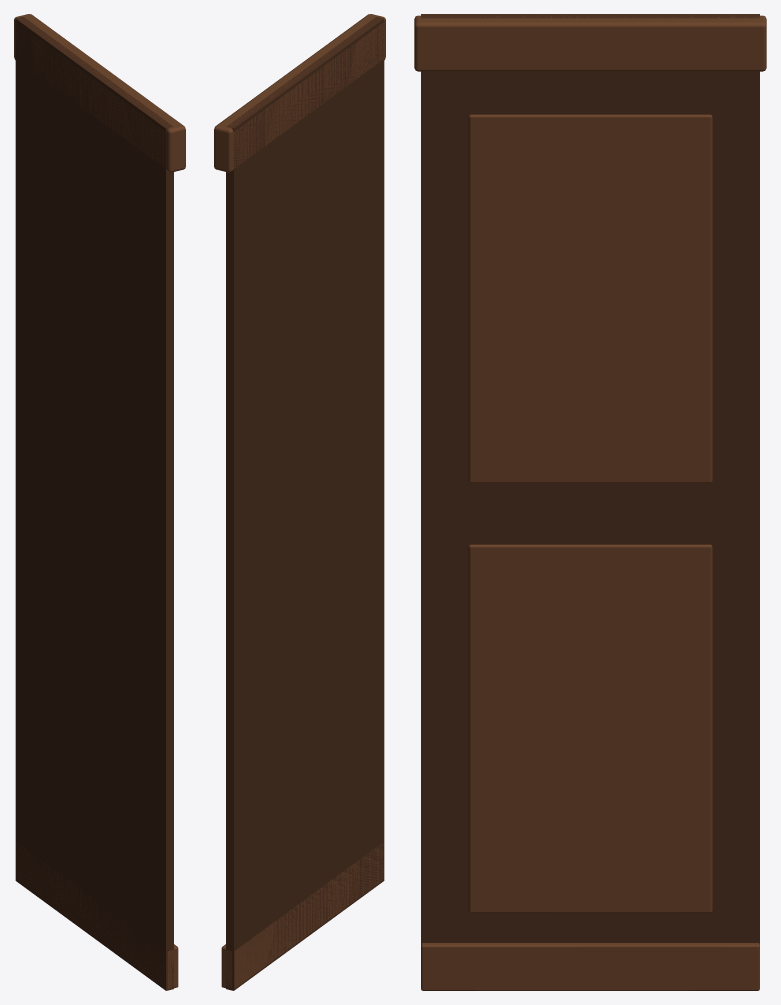
The model's file is bookcase_end.glb.
3 views of the same model, side by side, from view 1: azimuth 30°, elevation 25°; view 2: azimuth 150°, elevation 25°; view 3: azimuth 270°, elevation 25° (orthographic). The views are drawn at different scales.
Parts seen in each view (by area): view 1: brett, kranz, sockel; view 2: brett, kranz, sockel; view 3: brett, fuellung_u, fuellung_o, kranz, sockel.
Boxes of the visible parts, left/top/right/bottom form: brett: left=15, top=16, right=173, bottom=990; kranz: left=14, top=14, right=185, bottom=172; sockel: left=16, top=843, right=178, bottom=988; brett: left=226, top=16, right=384, bottom=990; kranz: left=214, top=14, right=385, bottom=172; sockel: left=221, top=843, right=383, bottom=988; brett: left=421, top=14, right=759, bottom=943; fuellung_u: left=468, top=544, right=712, bottom=913; fuellung_o: left=468, top=114, right=712, bottom=483; kranz: left=414, top=15, right=766, bottom=71; sockel: left=421, top=943, right=759, bottom=990.
Size of the model in its own units: 0.07 by 3.16 by 1.04.
